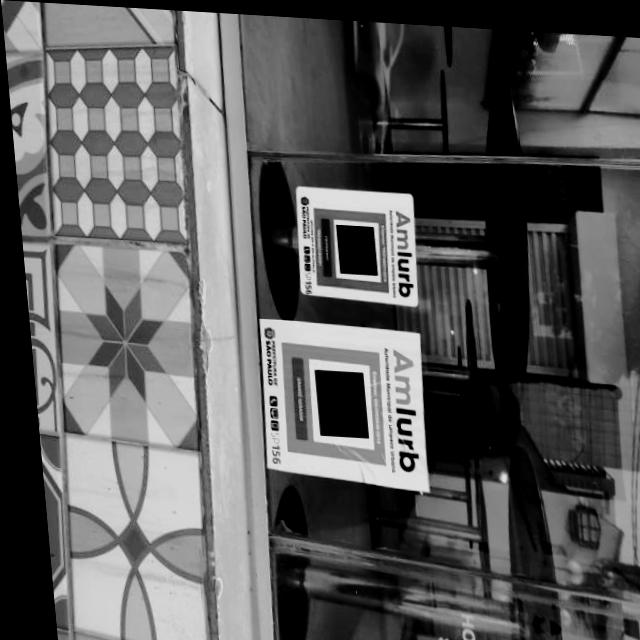qr_code: (307, 366, 360, 434), (331, 221, 372, 271)
